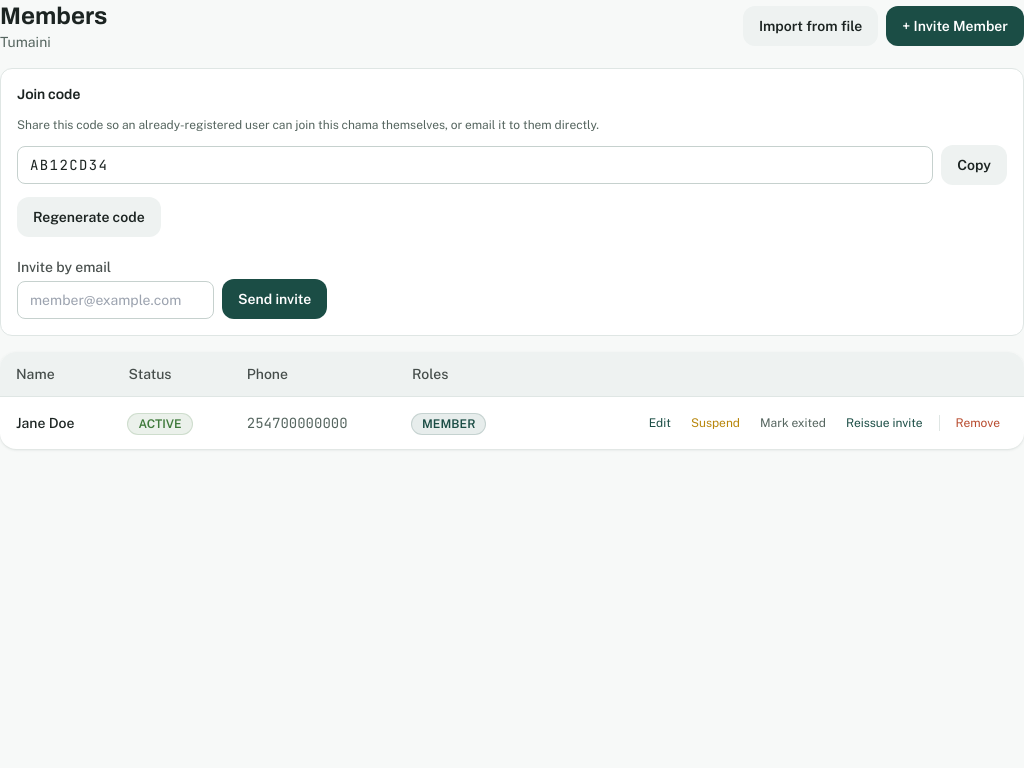
Test: MembersPage › shows an error notice when removing a member fails
The width and height of the screenshot is (1024, 768).
Expected: the text "Jane Doe" is shown, [16,415,74,431]
Click the button "Remove": (978,423) [948,409,1008,437]
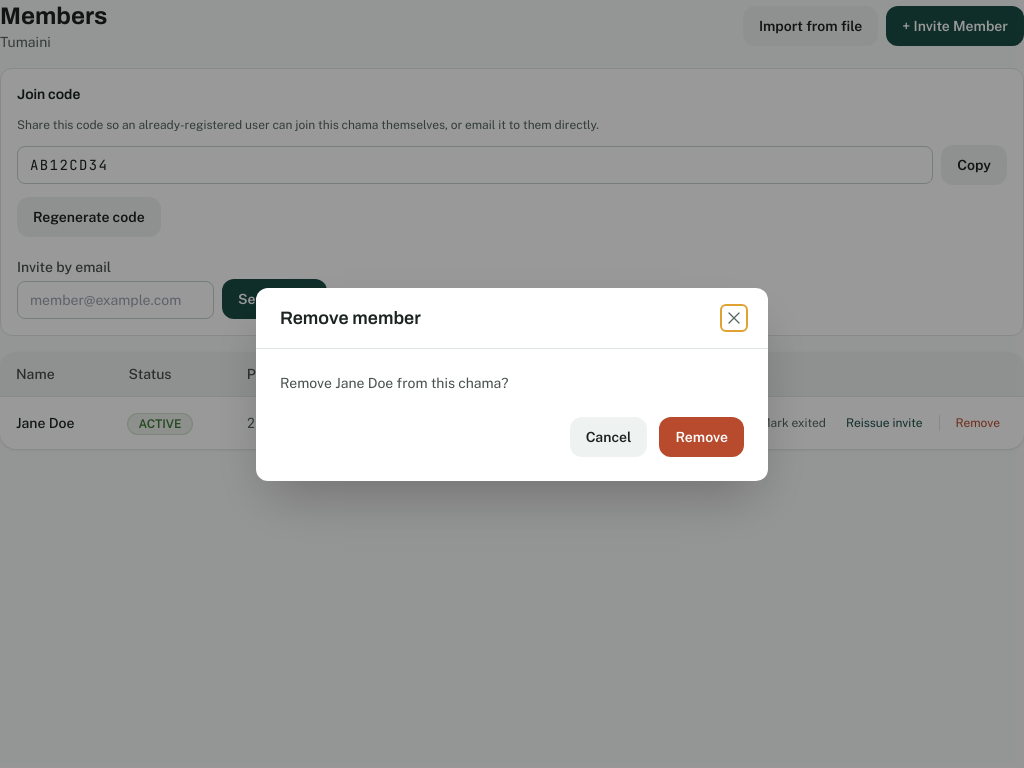
Click the button "Remove": (702,436) [660,416,744,456]
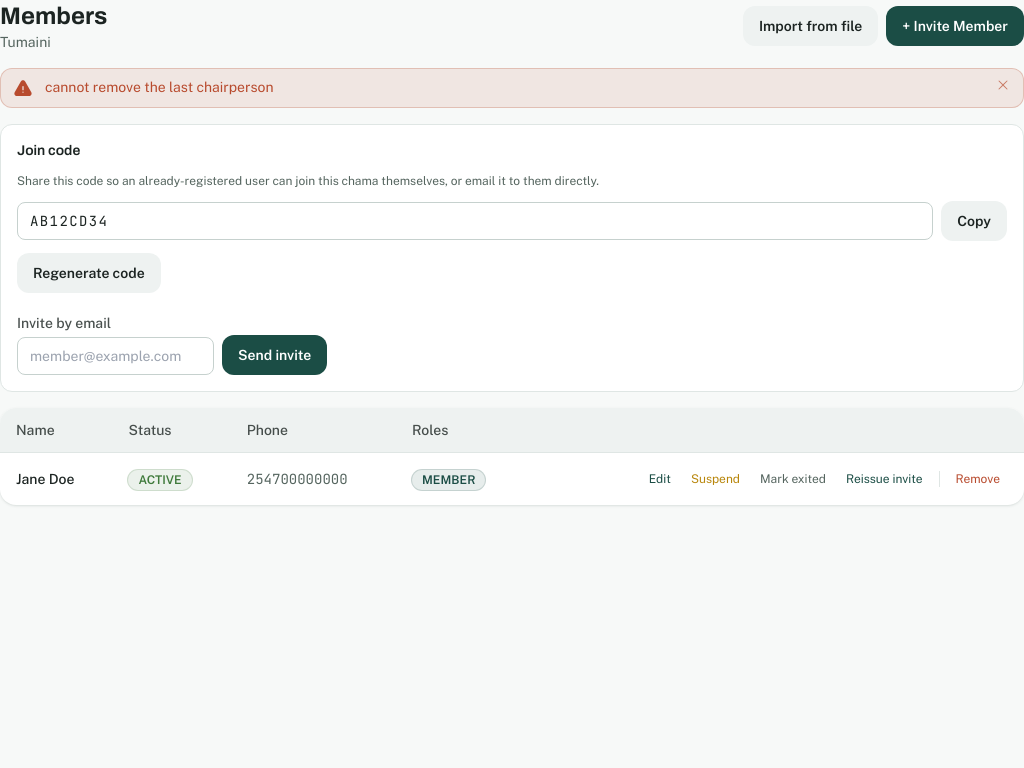
Expected: the text "cannot remove the last chairperson" is shown, [45,79,274,95]
